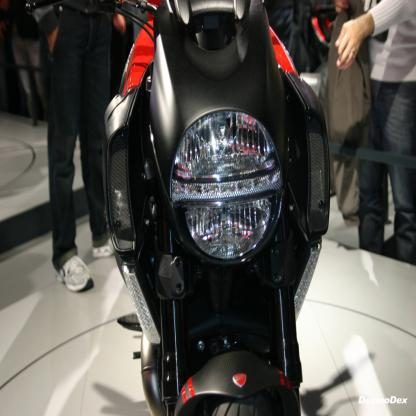motorcycle: (106, 1, 329, 415)
